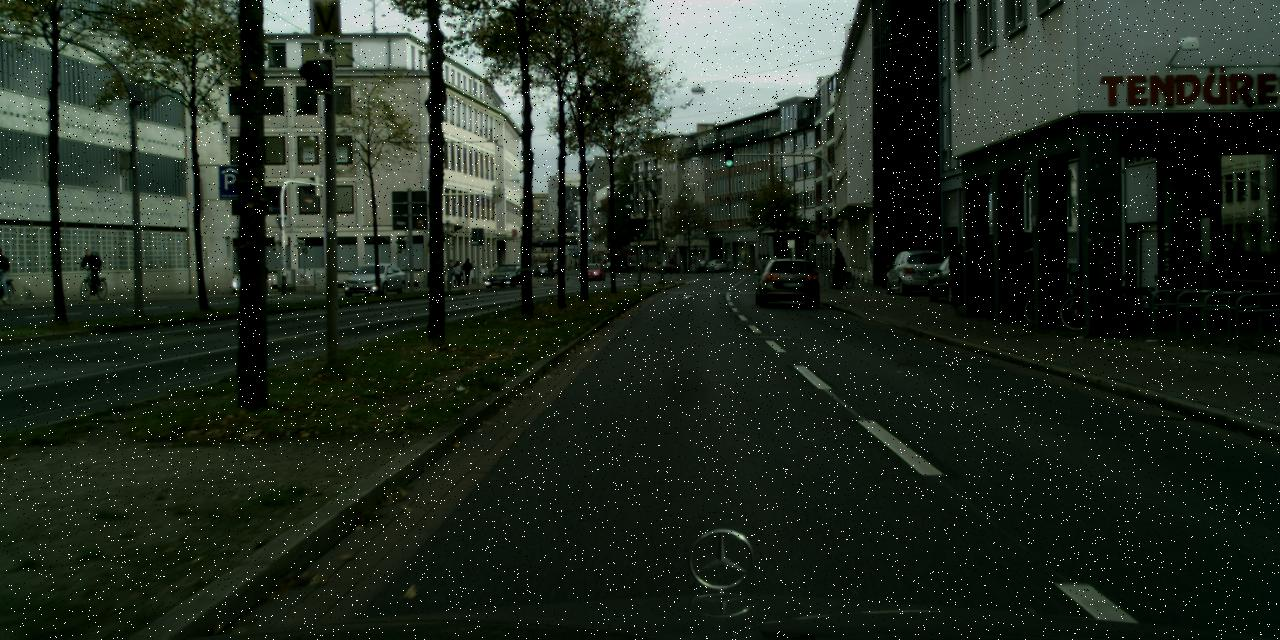ped: (942, 243, 971, 316), (830, 248, 847, 288), (83, 247, 99, 287), (0, 248, 11, 296), (462, 258, 472, 284), (452, 260, 462, 286), (444, 260, 454, 286), (546, 259, 552, 275)
